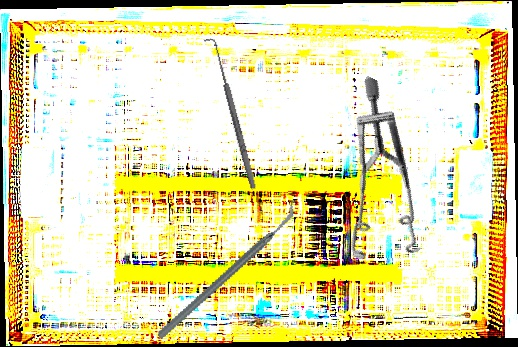Chopper: (131, 200, 323, 341)
Hook Surgical: (203, 34, 259, 193)
Speculum: (289, 75, 481, 283)
